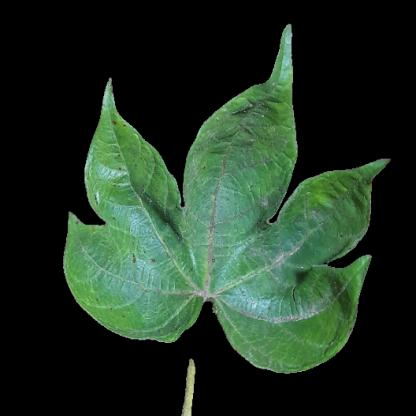curl_stage2: (205, 132, 263, 276), (244, 286, 343, 367), (88, 244, 181, 321), (101, 133, 152, 236)
